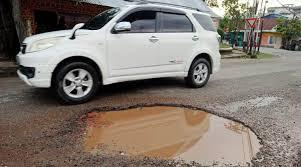Pothole: (61, 103, 273, 167)
